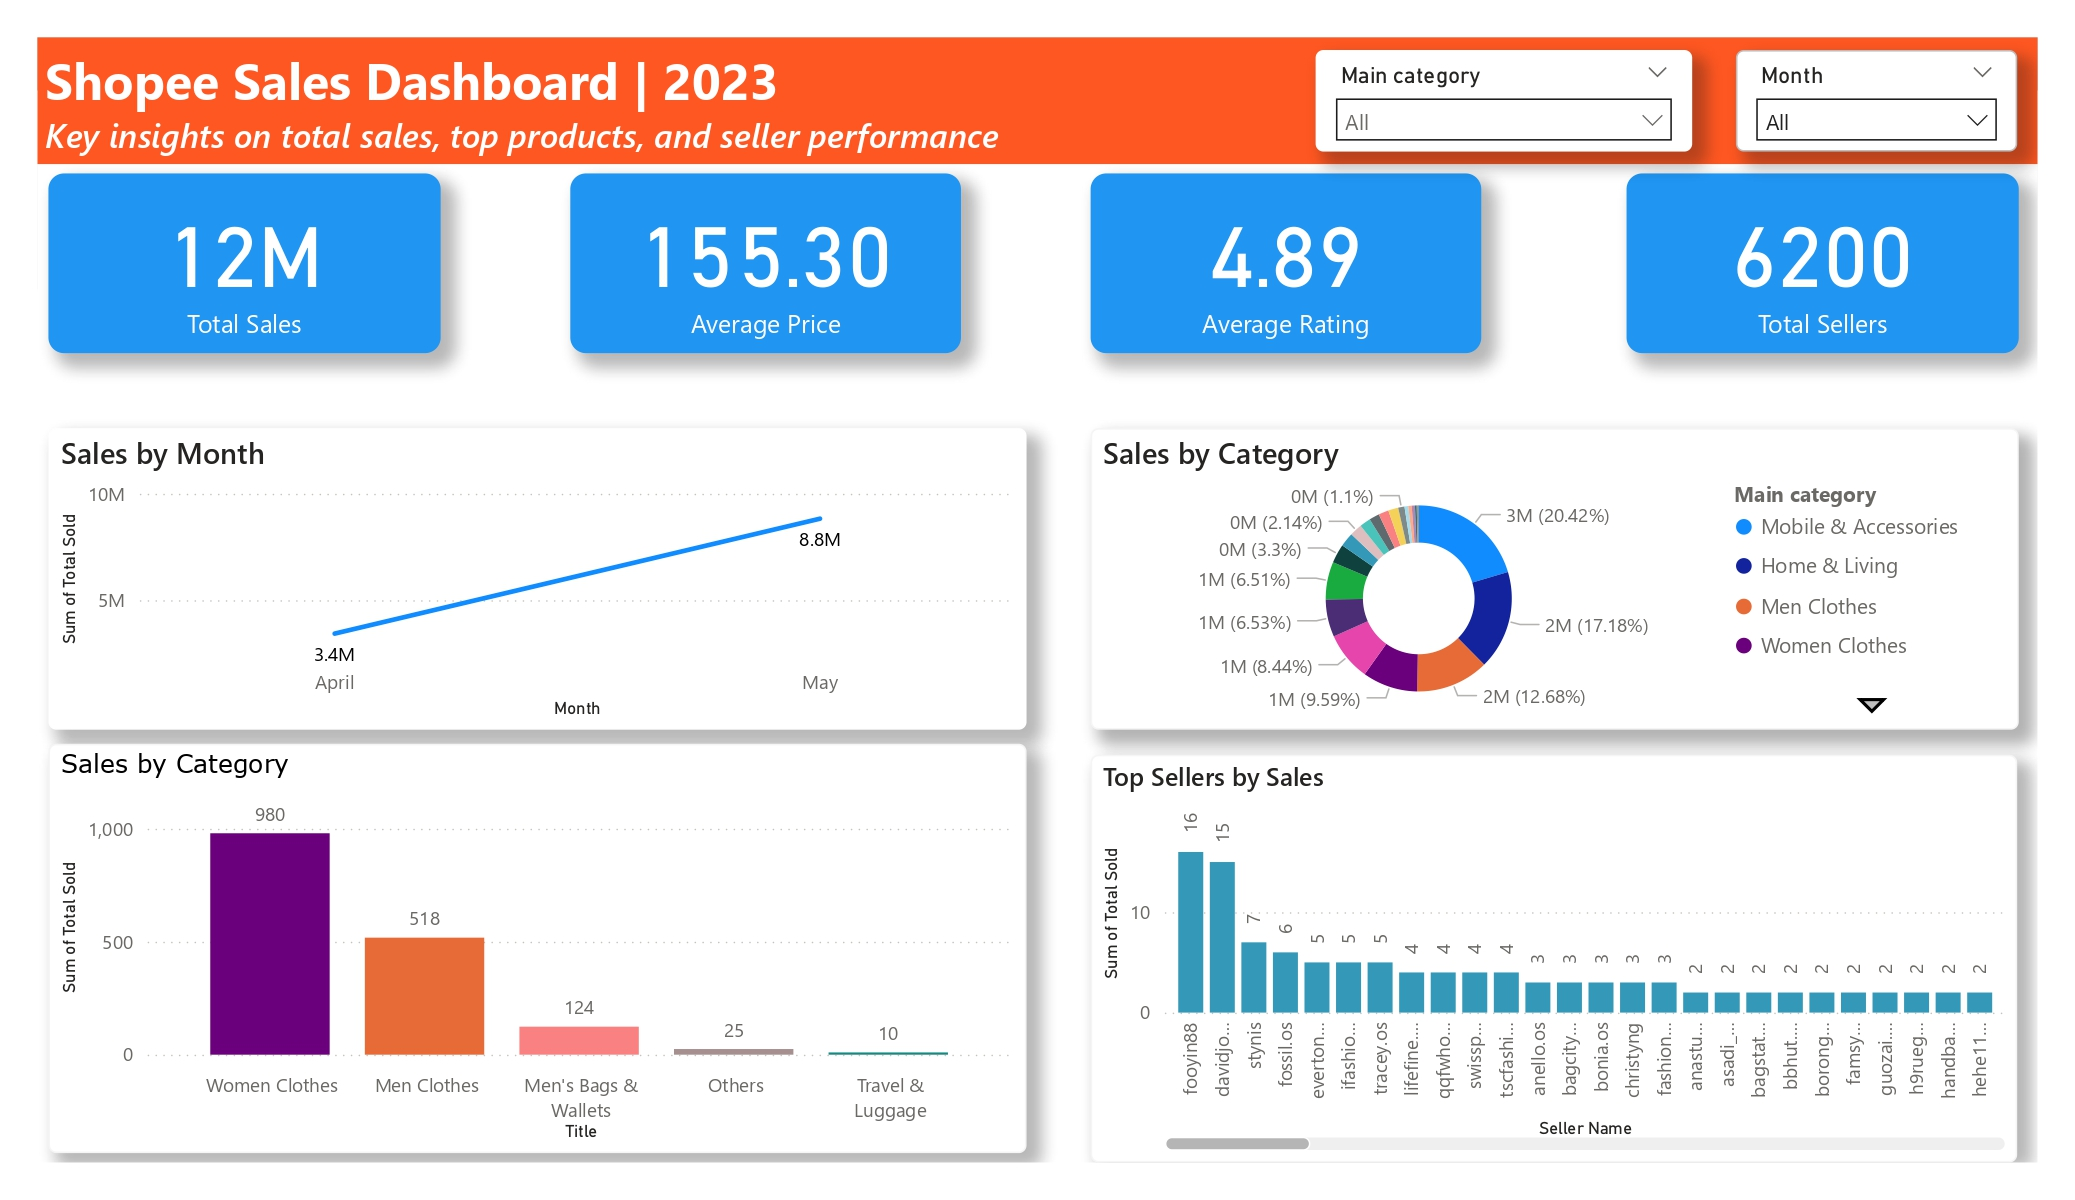

What the dashboard file says about the page in this screenshot:
{"tool":"powerbi","page":{"name":"Page 1","canvas":[1280,720],"ordinal":0},"visuals":[{"type":"lineChart","title":"Sales by Month","fields":{"Y":["Sum(20240121_shopee_sample_data (2).total_sold)"],"Category":["20240121_shopee_sample_data (2).w_date.Variation.Date Hierarchy.Month"]},"box":[7.3,250.3,625.7,193.1],"z":0},{"type":"columnChart","title":"Sales by Category","fields":{"Category":["20240121_shopee_sample_data (2).Main category"],"Y":["CountNonNull(20240121_shopee_sample_data (2).Subcategory 1)"],"Series":["20240121_shopee_sample_data (2).Main category"]},"box":[7.3,452.5,625.7,261.2],"z":1000},{"type":"donutChart","title":"Sales by Category","fields":{"Y":["Sum(20240121_shopee_sample_data (2).total_sold)"],"Category":["20240121_shopee_sample_data (2).Main category"]},"box":[673.8,250.3,594,193.1],"z":2000},{"type":"columnChart","title":"Top Sellers by Sales","fields":{"Category":["20240121_shopee_sample_data (2).seller_name"],"Y":["CountNonNull(20240121_shopee_sample_data (2).Main category)"],"Series":["20240121_shopee_sample_data (2).Main category"]},"box":[674.1,458.8,593.2,261.1],"z":3000},{"type":"textbox","box":[0,0,1280.4,80.7],"z":4000},{"type":"card","fields":{"Values":["Sum(20240121_shopee_sample_data (2).total_sold)"]},"box":[7.3,87.1,250.3,115.2],"z":5000},{"type":"card","fields":{"Values":["Avg(20240121_shopee_sample_data (2).price_actual)"]},"box":[341,87.1,250.3,115.2],"z":6000},{"type":"card","fields":{"Values":["Avg(20240121_shopee_sample_data (2).item_rating)"]},"box":[673.8,87.1,250.3,115.2],"z":7000},{"type":"card","fields":{"Values":["CountNonNull(20240121_shopee_sample_data (2).seller_name)"]},"box":[1017.4,87.1,250.3,115.2],"z":8000},{"type":"slicer","fields":{"Values":["20240121_shopee_sample_data (2).w_date.Variation.Date Hierarchy.Month"]},"box":[1087.3,8.2,179.5,64.4],"z":9000},{"type":"slicer","fields":{"Values":["20240121_shopee_sample_data (2).Main category"]},"box":[817.9,8.2,241.2,64.4],"z":10000}]}

Visuals, with their boxes in screenshot pixels (x1, y1, x2, y2):
"Sales by Month" lineChart: (65,418,1030,716)
"Sales by Category" columnChart: (65,730,1030,1133)
"Sales by Category" donutChart: (1093,418,2009,716)
"Top Sellers by Sales" columnChart: (1094,740,2008,1143)
textbox: (54,32,2028,157)
card - Sum(20240121_shopee_sample_data (2).total_sold): (65,167,451,344)
card - Avg(20240121_shopee_sample_data (2).price_actual): (580,167,966,344)
card - Avg(20240121_shopee_sample_data (2).item_rating): (1093,167,1479,344)
card - CountNonNull(20240121_shopee_sample_data (2).seller_name): (1623,167,2009,344)
slicer - 20240121_shopee_sample_data (2).w_date.Variation.Date Hierarchy.Month: (1731,45,2007,144)
slicer - 20240121_shopee_sample_data (2).Main category: (1315,45,1687,144)
